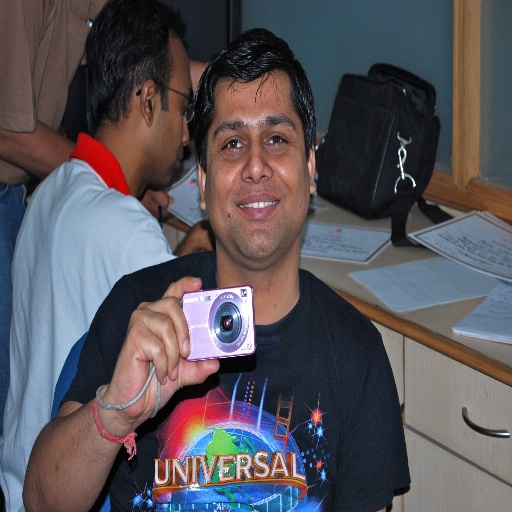hand: (108, 273, 220, 426), (140, 188, 176, 227), (186, 218, 217, 256)
